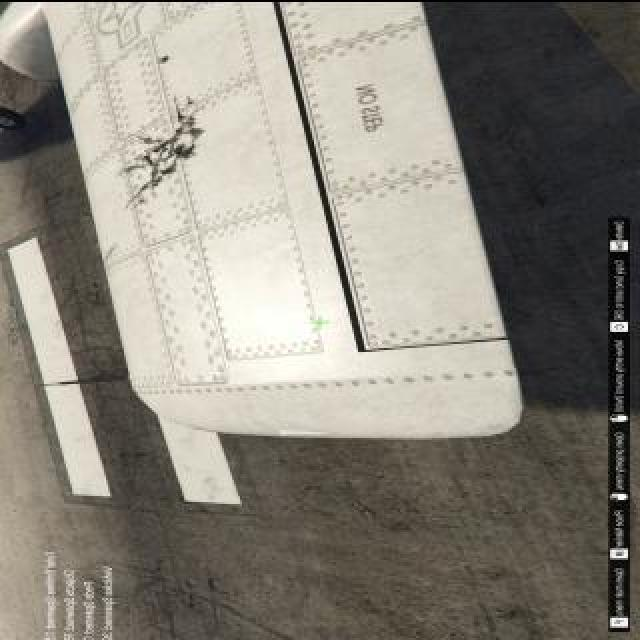crack: (156, 51, 170, 65)
dent: (152, 116, 191, 152), (171, 144, 193, 157), (149, 165, 159, 188), (187, 126, 204, 139), (159, 164, 176, 175), (142, 154, 156, 165)
